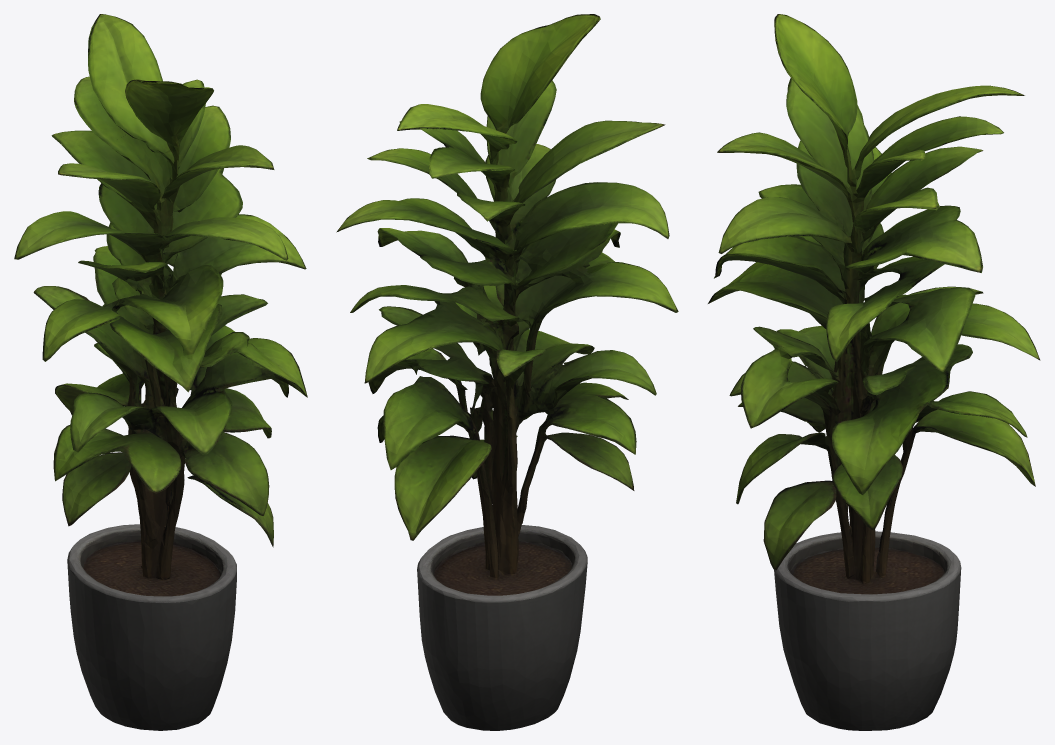
Rendered from floor-plant.glb.
3 views of the same model, side by side, from view 1: azimuth 30°, elevation 25°; view 2: azimuth 150°, elevation 25°; view 3: azimuth 270°, elevation 25° (orthographic).
Parts seen in each view (by area): view 1: world; view 2: world; view 3: world.
Boxes of the visible parts, x1=… form: world: x1=14, y1=14, x2=307, y2=730; world: x1=336, y1=14, x2=678, y2=730; world: x1=708, y1=14, x2=1040, y2=730.
Bounding box in the file's own units: 0.455 × 1 × 0.4526.
1 material, 1 textured.
